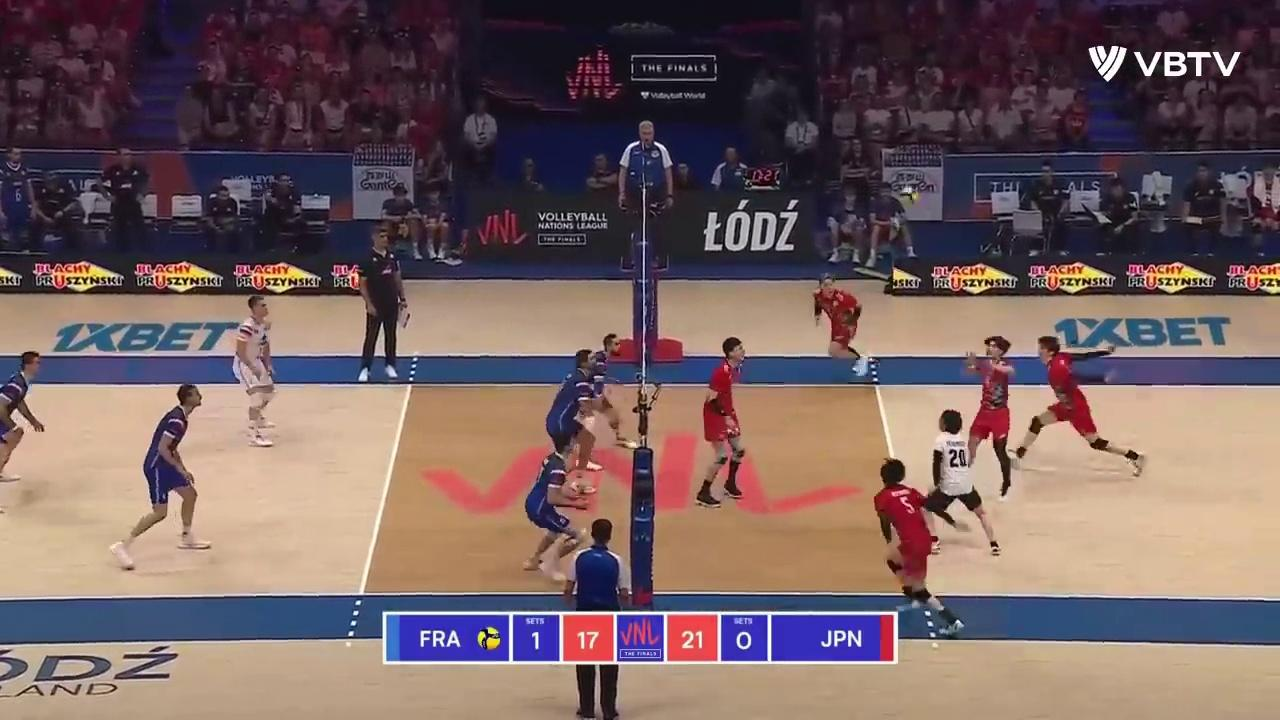ball: (897, 185, 919, 207)
